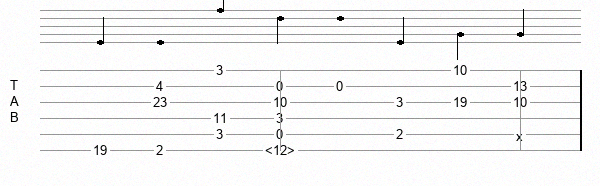0: (276, 127, 287, 141), (276, 79, 287, 93), (336, 79, 347, 93)
10: (273, 95, 291, 109), (453, 63, 471, 77), (513, 95, 531, 109)
11: (213, 111, 231, 125)
13: (513, 79, 531, 93)
19: (93, 143, 111, 157), (453, 95, 471, 109)
2: (156, 143, 167, 157), (396, 127, 407, 141)
23: (153, 95, 171, 109)
3: (216, 63, 227, 77), (216, 127, 227, 141), (276, 111, 287, 125), (396, 95, 407, 109)
4: (156, 79, 167, 93)
harmonic: (265, 143, 299, 157)
x: (516, 129, 527, 140)
